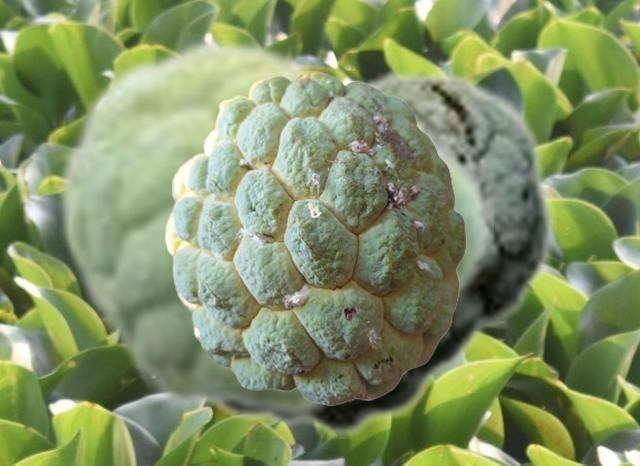atis: (53, 34, 492, 423), (193, 57, 555, 437), (164, 71, 465, 404)
